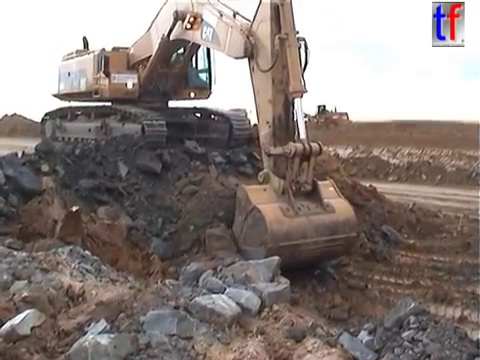excavator: (37, 1, 362, 271)
wheel loader: (291, 102, 351, 133)
